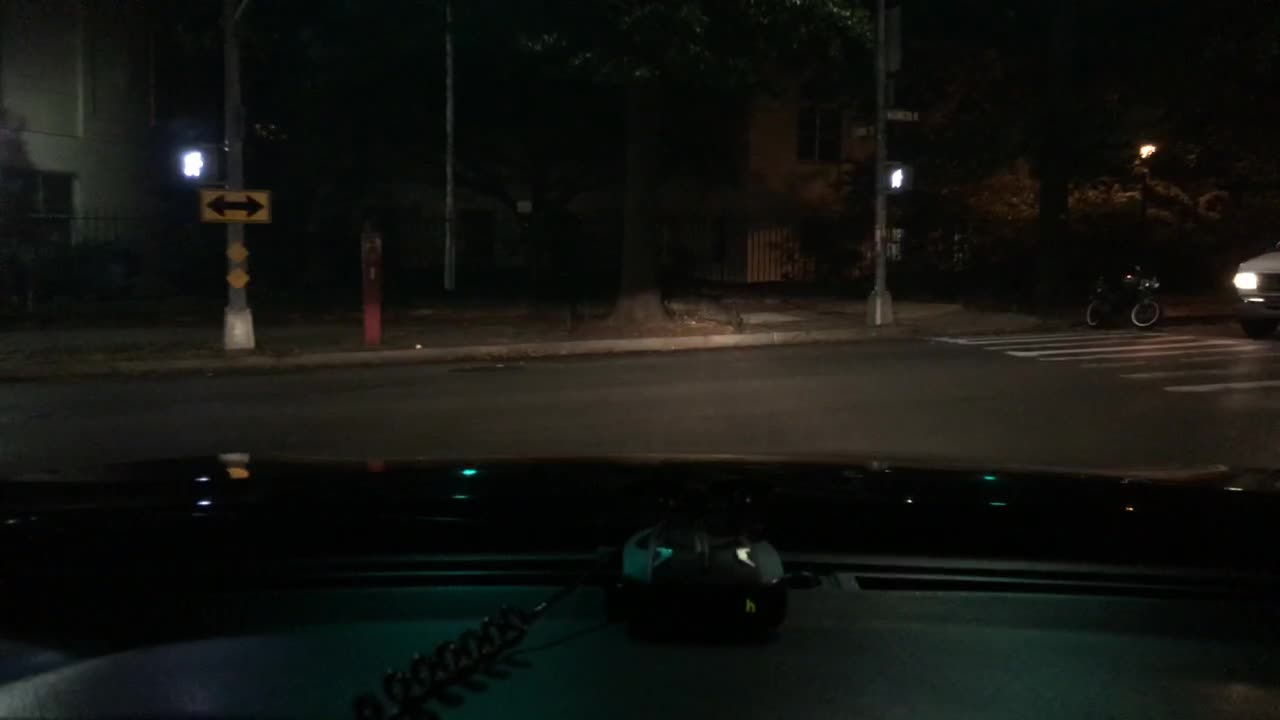car: (1223, 235, 1276, 340)
motor: (1077, 263, 1162, 336)
traffic light: (176, 145, 219, 178), (889, 158, 917, 199)
traffic sign: (194, 185, 272, 226), (883, 108, 922, 127), (223, 267, 253, 288), (226, 238, 252, 260), (848, 122, 879, 139)
